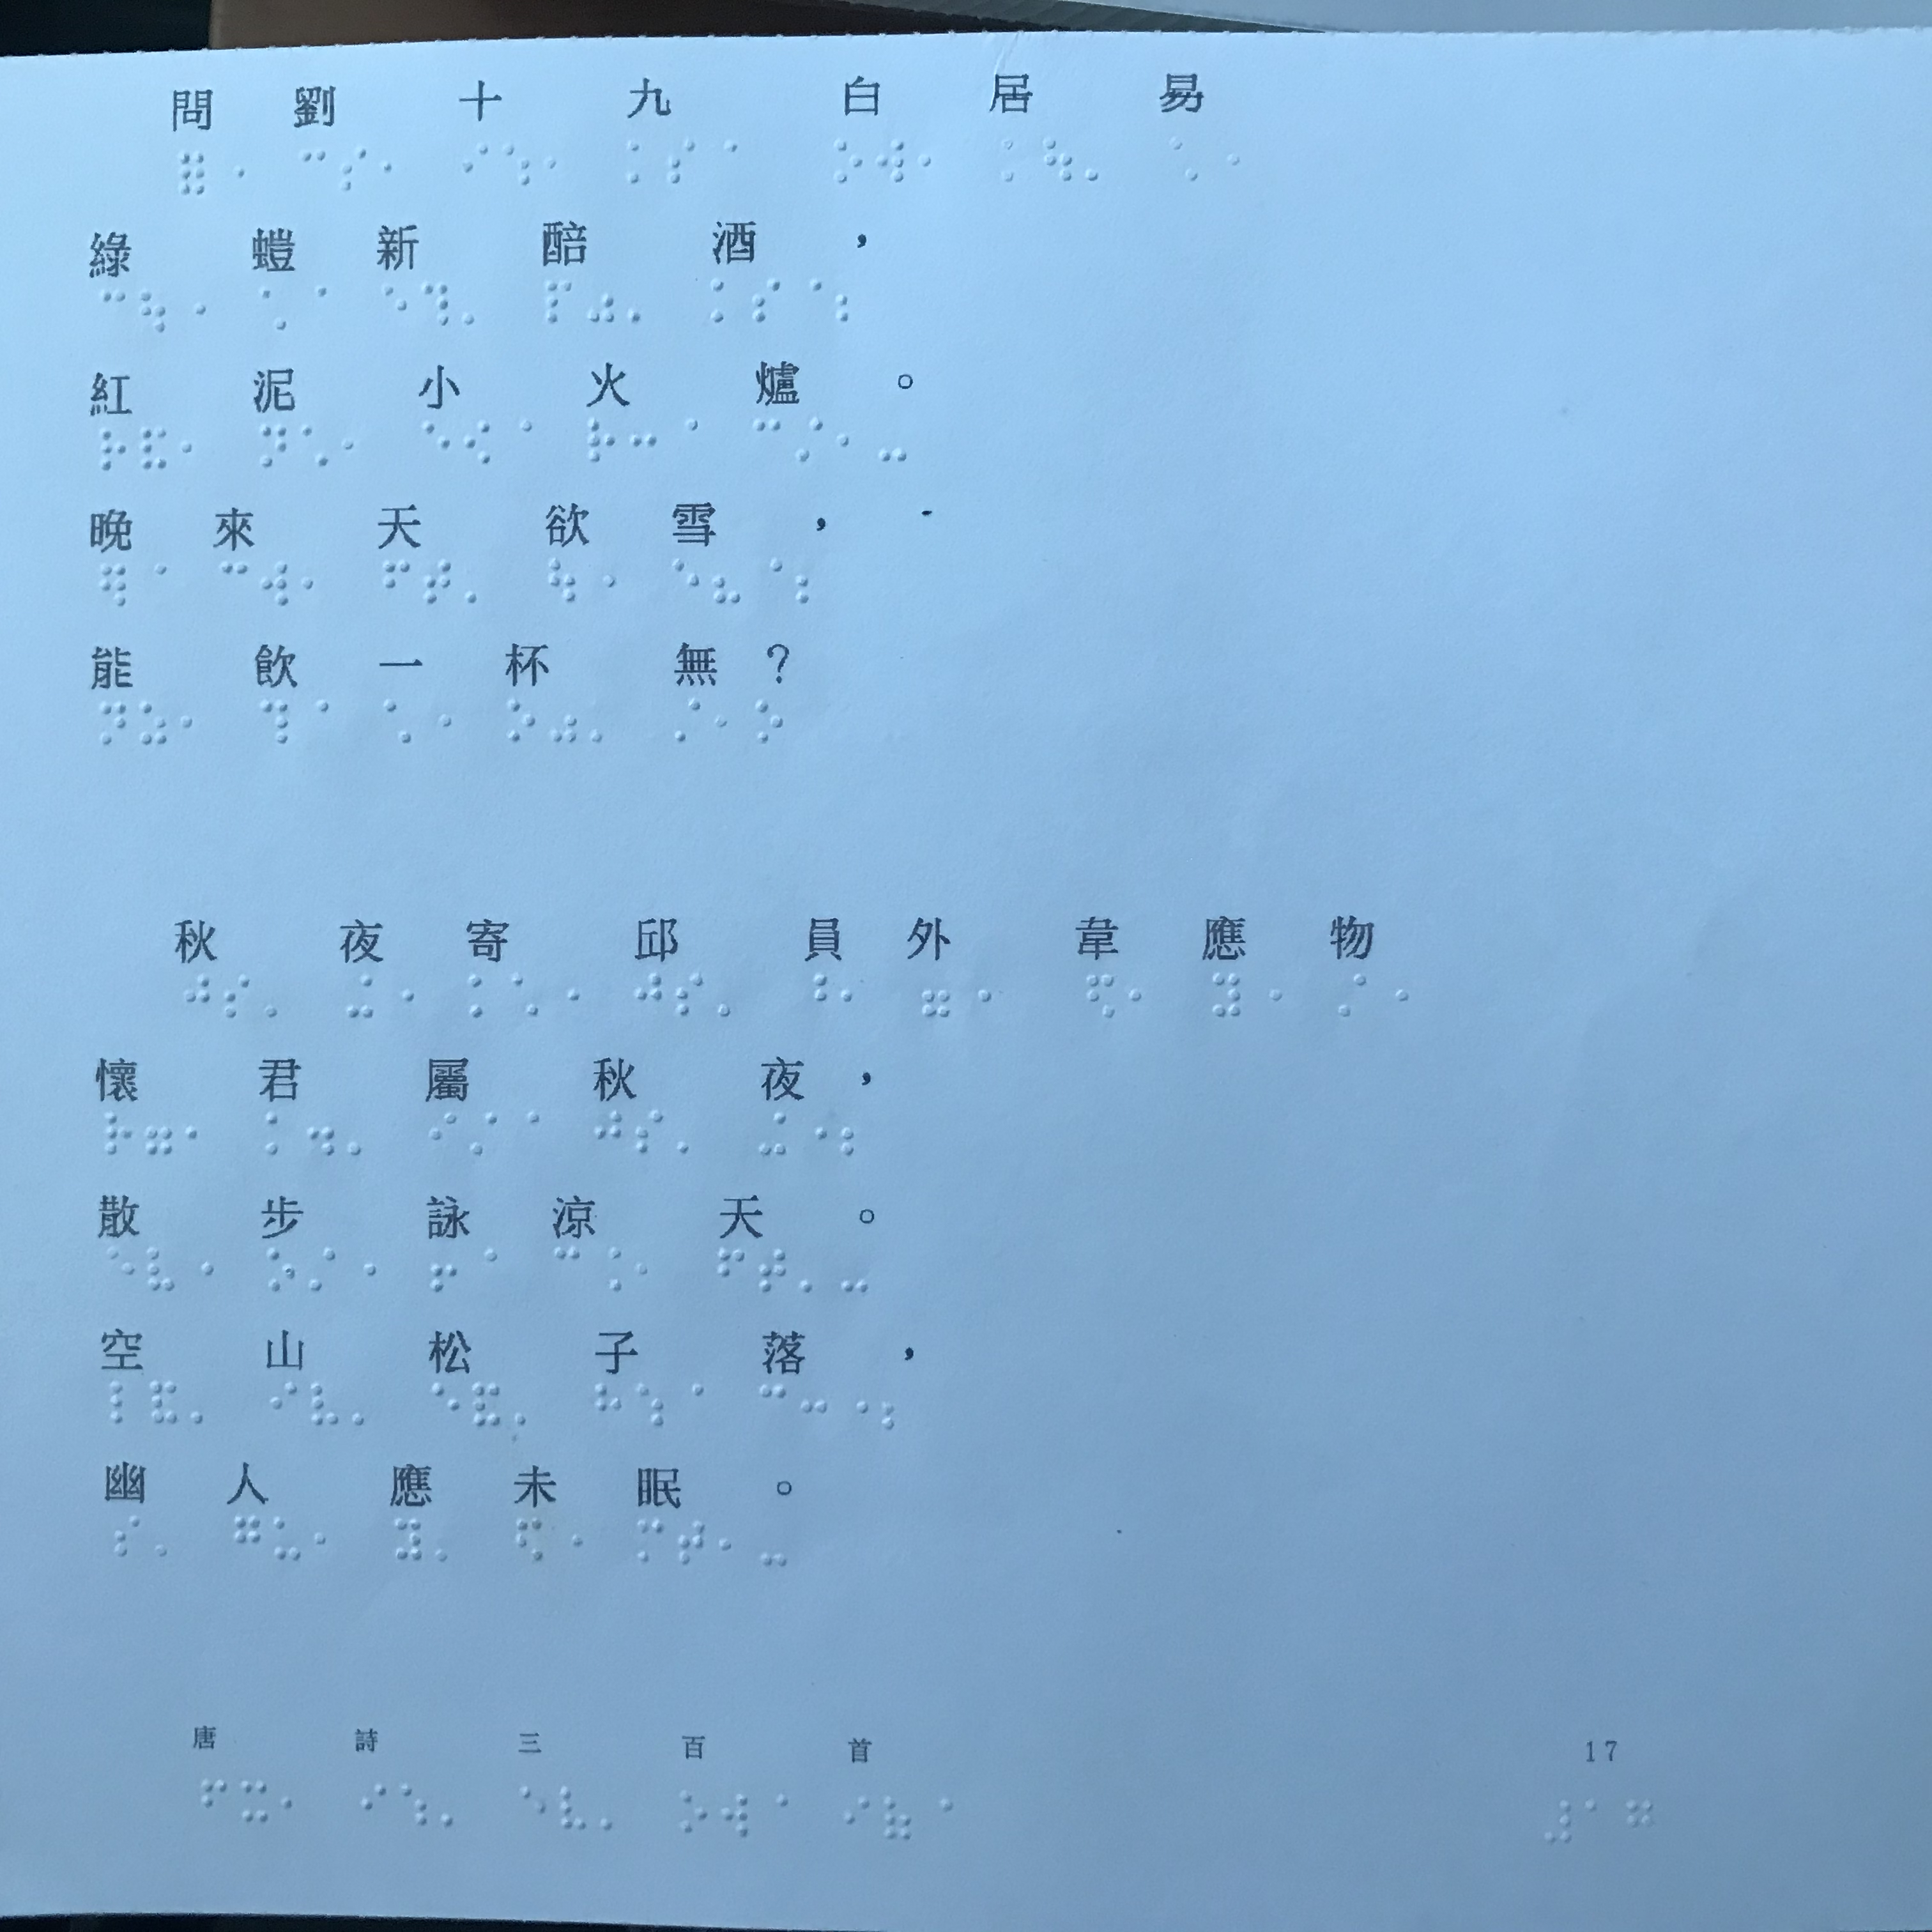Braille: (502, 695, 538, 747), (258, 697, 292, 750), (752, 695, 786, 747), (389, 1514, 423, 1566), (458, 138, 490, 191), (140, 425, 172, 476), (752, 416, 784, 467), (1212, 970, 1244, 1021), (265, 1244, 297, 1295), (715, 1247, 747, 1299), (257, 421, 290, 469), (147, 1378, 180, 1426), (110, 1511, 143, 1559), (633, 1516, 667, 1564), (720, 1785, 750, 1838), (547, 554, 579, 603), (840, 1247, 872, 1297), (676, 1516, 708, 1566), (474, 1376, 502, 1431), (99, 561, 129, 612), (554, 1242, 584, 1293), (311, 1380, 341, 1431), (432, 1380, 462, 1431), (883, 1792, 913, 1844), (423, 559, 455, 607), (922, 970, 954, 1017), (840, 1109, 872, 1157), (879, 1385, 911, 1433), (435, 1518, 467, 1566), (1545, 1798, 1576, 1845), (350, 1246, 379, 1299), (759, 1242, 787, 1295), (108, 1373, 136, 1426), (1585, 1794, 1614, 1847), (297, 143, 327, 193), (667, 134, 697, 184), (708, 274, 738, 324), (750, 272, 780, 322), (798, 554, 828, 603), (469, 1108, 499, 1157), (517, 1514, 547, 1564), (502, 138, 531, 189), (1046, 131, 1074, 182), (462, 416, 490, 467), (879, 412, 908, 464), (140, 699, 168, 750), (635, 968, 663, 1019), (1169, 134, 1200, 182), (759, 1380, 789, 1428), (678, 1789, 708, 1836), (837, 272, 863, 326), (757, 1111, 789, 1155), (218, 145, 246, 195), (708, 133, 736, 182), (835, 134, 863, 184), (99, 426, 127, 476), (423, 419, 451, 469), (630, 416, 658, 465), (713, 556, 741, 605), (182, 968, 211, 1017), (223, 970, 251, 1019), (552, 968, 580, 1017), (676, 968, 704, 1017), (1254, 968, 1283, 1017), (471, 1246, 499, 1295), (593, 1244, 621, 1293), (594, 1382, 623, 1431), (801, 1382, 830, 1431), (271, 1514, 299, 1564), (311, 1516, 340, 1566), (557, 1514, 586, 1564), (400, 1780, 428, 1829), (1628, 1796, 1656, 1845), (180, 147, 207, 198), (380, 140, 407, 191), (262, 557, 288, 609), (1382, 968, 1408, 1019), (147, 1108, 173, 1159), (310, 1109, 336, 1161), (149, 1242, 175, 1293), (635, 1244, 660, 1299), (138, 287, 166, 334), (423, 281, 451, 329), (587, 278, 616, 326), (502, 419, 531, 467), (587, 416, 616, 464), (794, 416, 823, 464), (754, 556, 782, 603), (101, 699, 129, 747), (552, 699, 580, 747), (349, 973, 377, 1021), (513, 970, 541, 1017), (1341, 970, 1369, 1017), (104, 1109, 133, 1157), (510, 1108, 538, 1155), (594, 1109, 623, 1157), (635, 1108, 663, 1155), (800, 1109, 828, 1157), (308, 1242, 336, 1290), (241, 1778, 269, 1826), (428, 1111, 458, 1155), (340, 143, 366, 193), (545, 136, 570, 189), (878, 134, 904, 184), (545, 278, 571, 327), (837, 414, 862, 467), (837, 973, 863, 1023), (1090, 970, 1116, 1019), (108, 1244, 134, 1293), (260, 285, 288, 331), (382, 557, 410, 603), (798, 973, 826, 1019), (637, 1382, 665, 1428), (761, 1520, 789, 1566), (628, 136, 653, 188), (180, 425, 207, 472), (382, 699, 409, 747), (425, 699, 451, 747), (715, 697, 741, 745), (188, 1246, 214, 1293), (800, 1246, 826, 1293), (842, 1385, 869, 1433), (235, 1511, 262, 1559), (718, 1518, 745, 1566), (561, 1785, 587, 1833), (301, 554, 324, 609), (793, 276, 821, 320), (674, 697, 702, 741), (387, 975, 416, 1019), (269, 1380, 297, 1424), (844, 1796, 872, 1840), (304, 419, 329, 469), (589, 554, 614, 603), (265, 968, 290, 1017), (1215, 136, 1242, 182), (179, 699, 205, 745), (589, 699, 616, 745), (432, 1249, 458, 1295), (678, 1382, 704, 1428), (763, 1787, 789, 1833), (927, 1794, 954, 1840), (299, 285, 327, 327), (916, 134, 941, 182), (1001, 134, 1026, 182), (674, 556, 699, 603), (471, 973, 495, 1021), (522, 1785, 547, 1833), (1129, 968, 1152, 1019), (676, 1106, 699, 1157), (1086, 136, 1113, 180), (465, 559, 492, 603), (267, 1113, 294, 1157), (179, 288, 207, 329), (384, 283, 409, 329), (464, 281, 488, 327), (626, 278, 651, 324), (343, 421, 368, 467), (304, 699, 329, 745), (186, 1109, 209, 1159), (202, 1775, 226, 1821), (140, 563, 166, 605), (350, 1115, 377, 1157), (354, 1385, 380, 1428), (720, 970, 743, 1017), (672, 416, 697, 460), (223, 561, 248, 605), (359, 1782, 384, 1826), (600, 1787, 625, 1831), (156, 1516, 182, 1557), (281, 1780, 304, 1826), (966, 975, 991, 1017), (515, 1385, 540, 1428), (191, 1382, 214, 1426), (99, 287, 124, 327), (439, 1787, 462, 1829)
